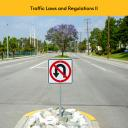NoVirarU: (48, 60, 72, 84)
